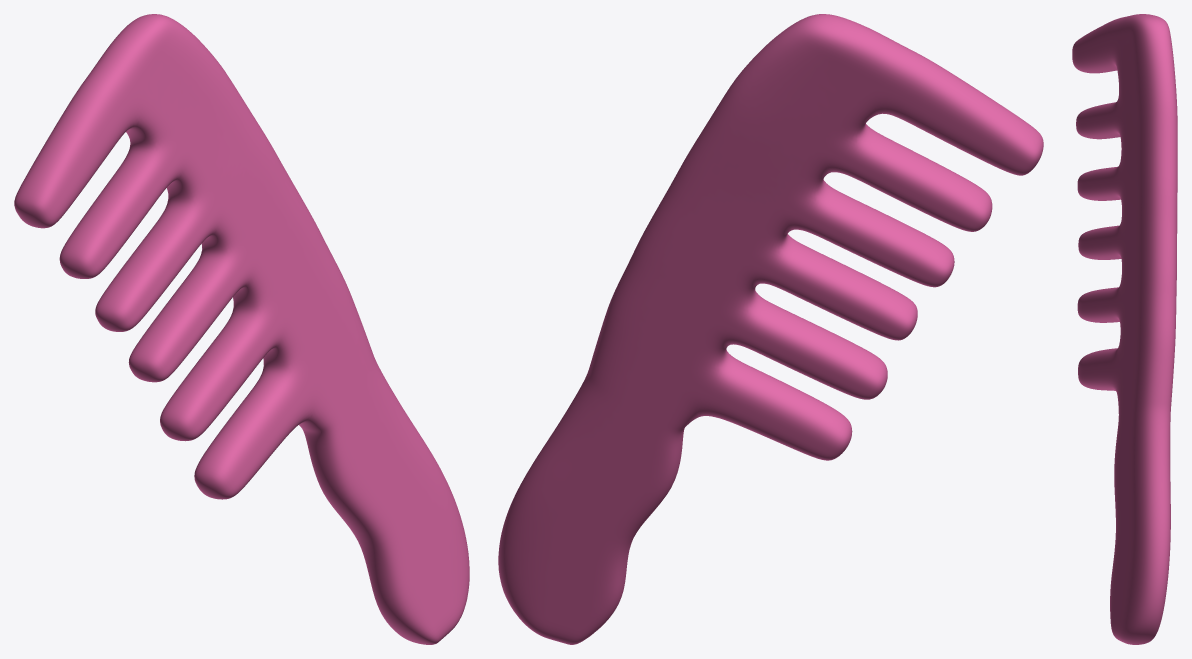
File: comb-3d-animated-icon-1680045722687.glb
3 views of the same model, side by side, from view 1: azimuth 30°, elevation 25°; view 2: azimuth 150°, elevation 25°; view 3: azimuth 270°, elevation 25° (orthographic). The views are drawn at different scales.
Parts seen in each view (by area): view 1: Plane.027; view 2: Plane.027; view 3: Plane.027.
Boxes of the visible parts, x1,y1,x2,y2 form: Plane.027: (14, 14, 469, 644); Plane.027: (498, 14, 1043, 644); Plane.027: (1072, 14, 1177, 644).
Size of the model in its own units: 3.47 by 4.63 by 0.8422.
